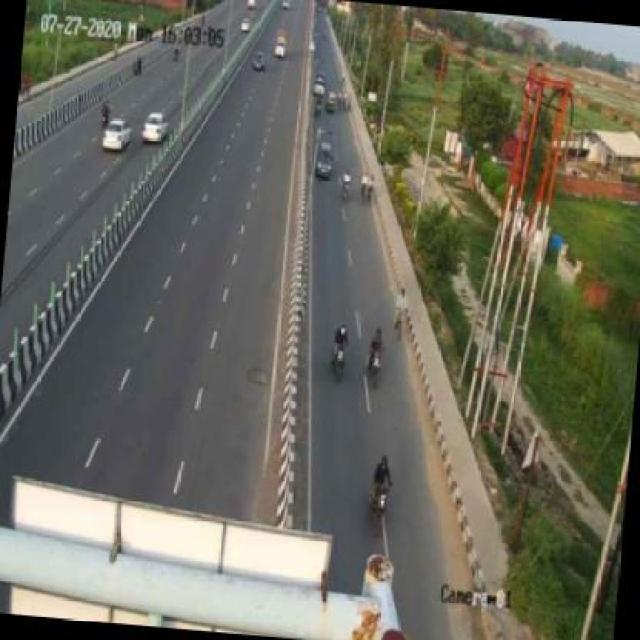car: (314, 137, 341, 183), (102, 118, 130, 154), (142, 115, 168, 146)
